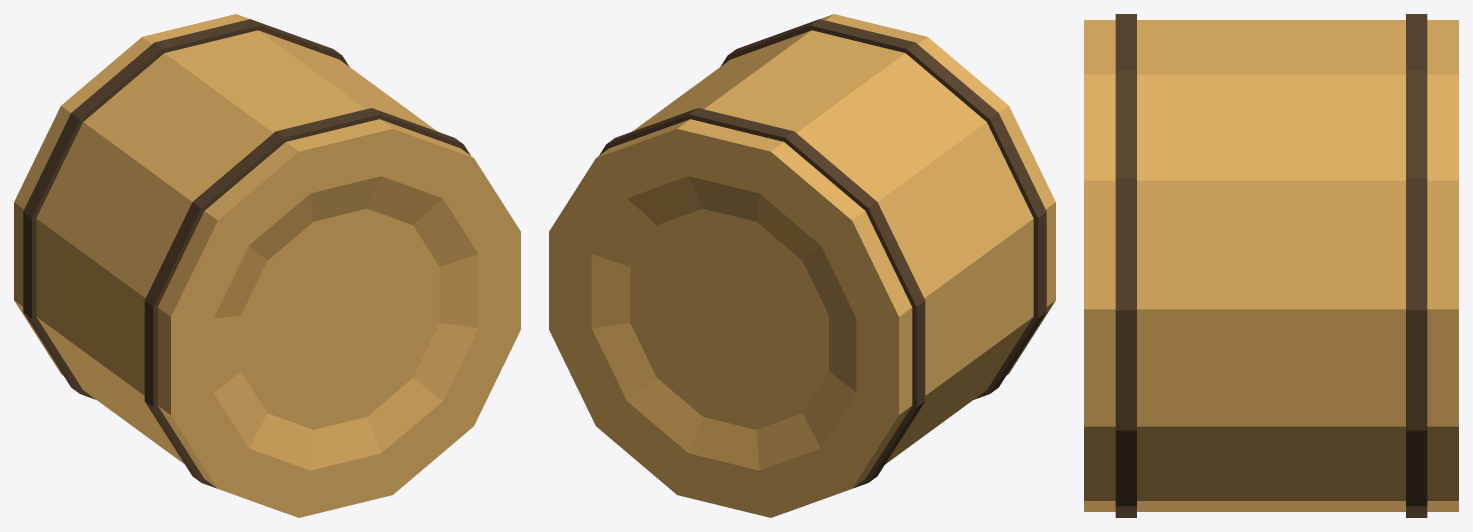
Rendered from SM_haystack_01.glb.
The picture shows the model from 3 angles, left to right: view 1: azimuth 30°, elevation 25°; view 2: azimuth 150°, elevation 25°; view 3: azimuth 270°, elevation 25°; orthographic projection. The views are drawn at different scales.
Parts seen in each view (by area): view 1: SM_haystack_01; view 2: SM_haystack_01; view 3: SM_haystack_01.
Part boxes in pixels (x1,y1,x2,y2): SM_haystack_01: (14,14,520,517); SM_haystack_01: (549,14,1055,517); SM_haystack_01: (1084,14,1458,517).
Size of the model in its own units: 1.98 by 1.98 by 1.5.
Materials: 1 (1 with a texture image).
